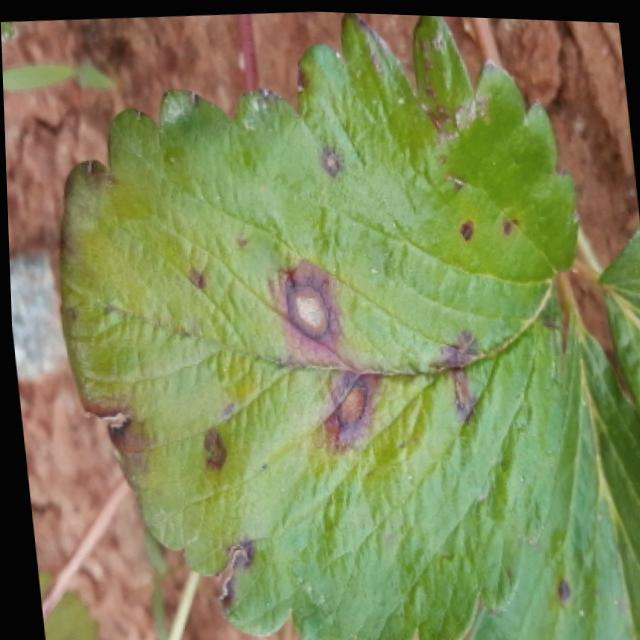Leaf Spot: (55, 10, 578, 640), (463, 305, 640, 640)
